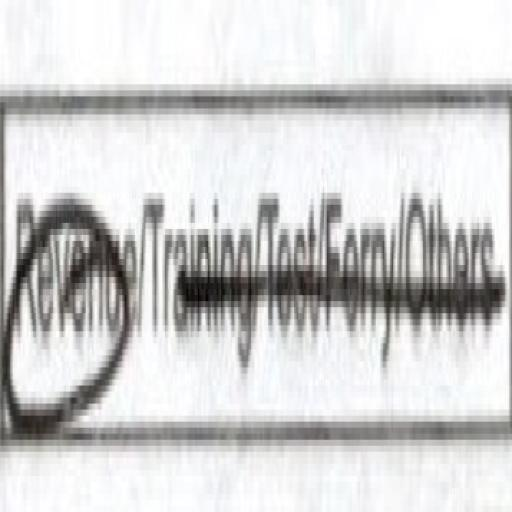check: (0, 102, 139, 512)
